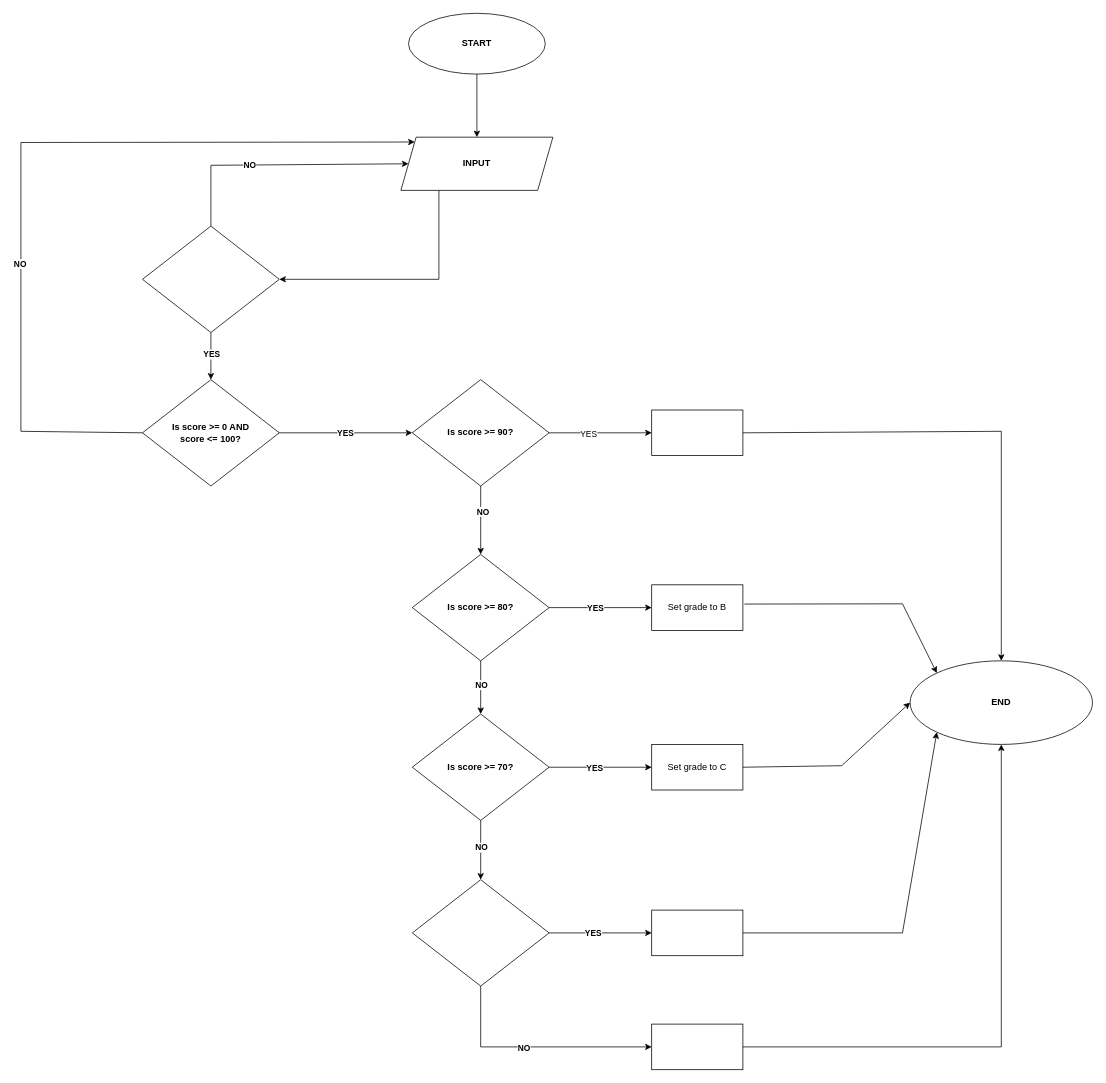
The diagram is 1106 pixels wide and 1083 high, and some of its shapes have lost their labels. The centre of each missing label's shape, as x and y in pixels:
"Invalid Input is score a number?" belongs at pixel 210 278.
"Is score >= 60?" belongs at pixel 480 932.
"Set grade to A" belongs at pixel 697 432.
"Set grade to D" belongs at pixel 697 932.
"Set grade to F" belongs at pixel 697 1046.
